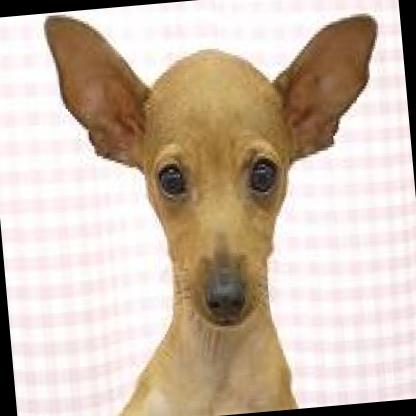miniature_pinscher: (26, 0, 407, 416)
